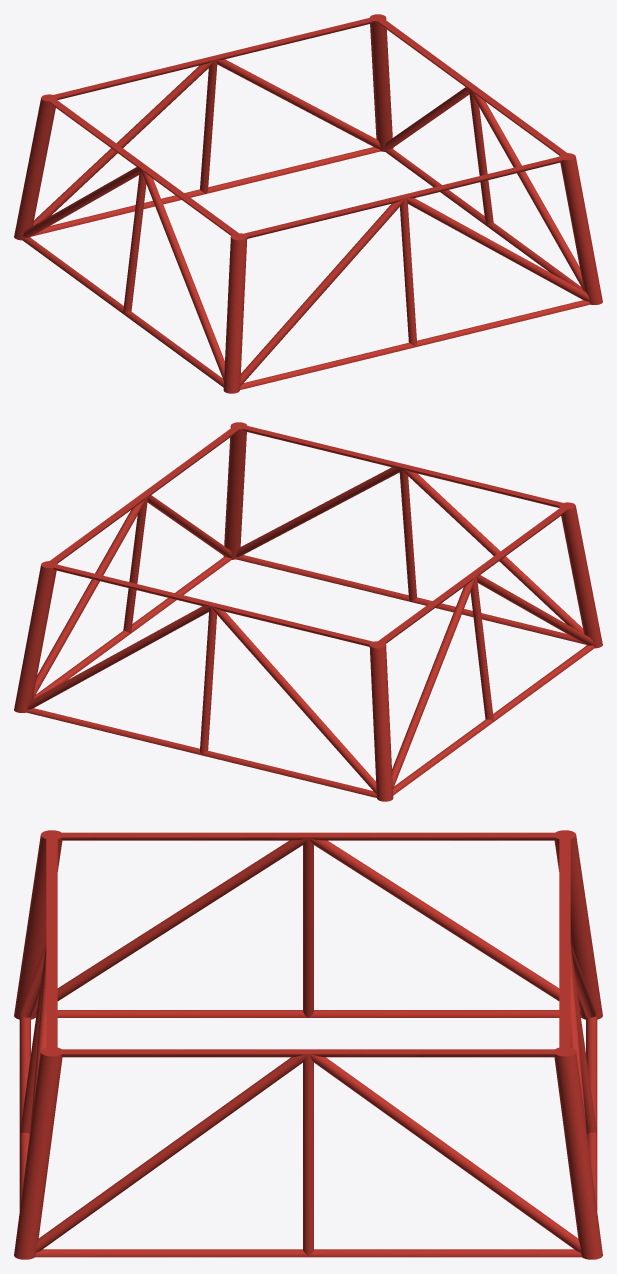
The picture shows the model from 3 angles, top to bottom: view 1: azimuth 30°, elevation 25°; view 2: azimuth 150°, elevation 25°; view 3: azimuth 270°, elevation 25°; orthographic projection. The views are drawn at different scales.
Parts seen in each view (by area): view 1: H7-H8; view 2: H7-H8; view 3: H7-H8.
Boxes of the visible parts, bbox=[...] form: H7-H8: bbox=[14, 14, 602, 393]; H7-H8: bbox=[14, 422, 602, 801]; H7-H8: bbox=[14, 830, 602, 1259].
Bounding box in the file's own units: 26.41 × 9.5 × 26.41.
